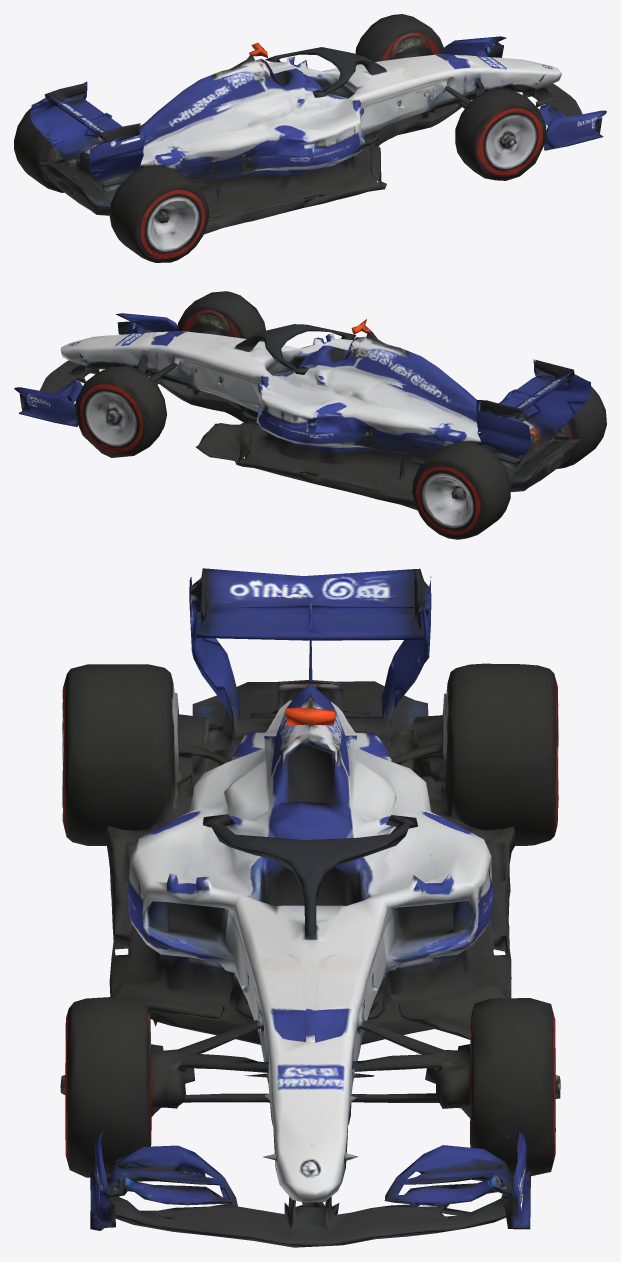
Rendered from photoreal-formula-one-race-car-52d3e413.glb.
3 views of the same model, one above another, from view 1: azimuth 30°, elevation 25°; view 2: azimuth 150°, elevation 25°; view 3: azimuth 270°, elevation 25° (orthographic). The views are drawn at different scales.
Parts seen in each view (by area): view 1: tripo_node_863ef257-5505-4479-a35f-da6d9455a19a; view 2: tripo_node_863ef257-5505-4479-a35f-da6d9455a19a; view 3: tripo_node_863ef257-5505-4479-a35f-da6d9455a19a.
Part boxes in pixels (x1,y1,x2,y2): tripo_node_863ef257-5505-4479-a35f-da6d9455a19a: [14, 14, 606, 262]; tripo_node_863ef257-5505-4479-a35f-da6d9455a19a: [14, 291, 606, 539]; tripo_node_863ef257-5505-4479-a35f-da6d9455a19a: [60, 568, 560, 1247].
Bounding box in the file's own units: 1 × 0.262 × 0.4298.
Materials: 1 (1 with a texture image).
